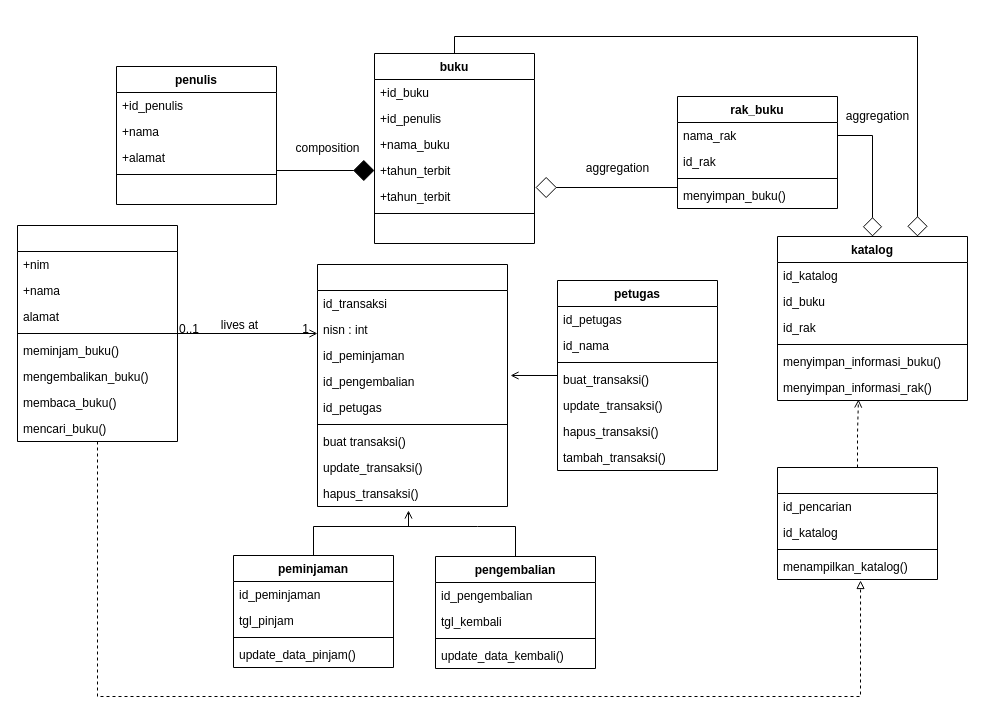
This 985x722 diagram has some shape labels left out. The box of each missing label's shape, as (x1, y1, x2, y2) in pixels:
pencarian_buku: (776, 466, 938, 580)
siswa: (16, 224, 178, 442)
tansaksi: (316, 264, 508, 506)
